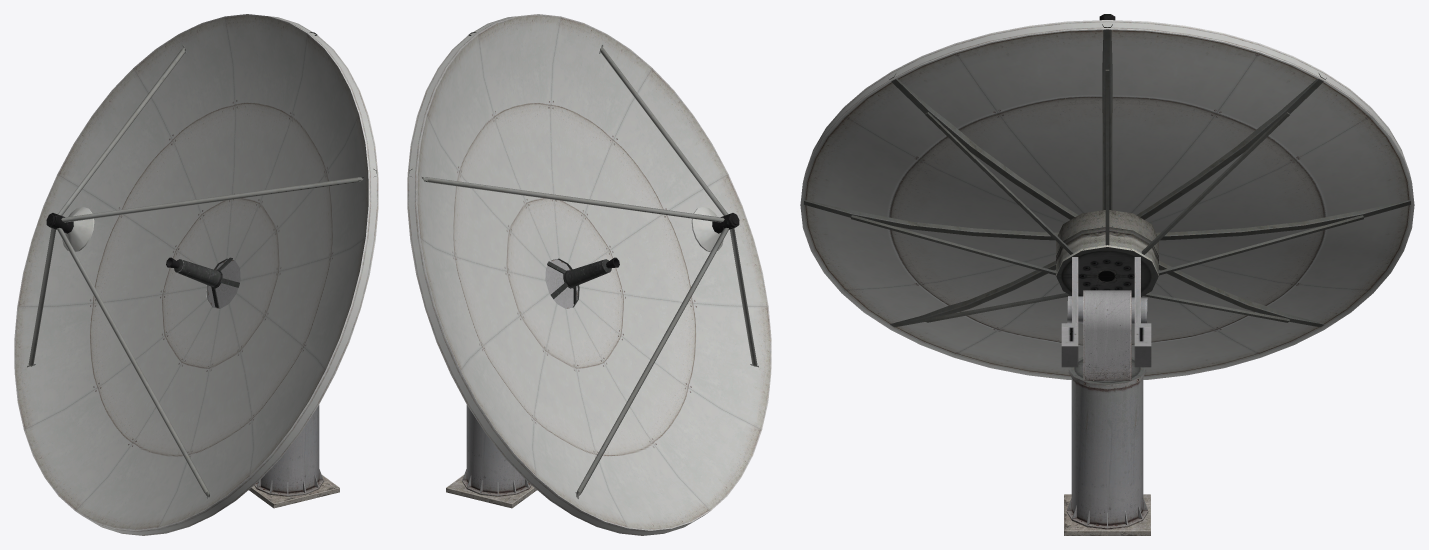
The model's file is satellite antenna.fbx.
3 views of the same model, side by side, from view 1: azimuth 30°, elevation 25°; view 2: azimuth 150°, elevation 25°; view 3: azimuth 270°, elevation 25° (orthographic). The views are drawn at different scales.
Visible parts, largest first — view 1: Satellite_Dish_Large_01; view 2: Satellite_Dish_Large_01; view 3: Satellite_Dish_Large_01.
Boxes of the visible parts, x1,y1,x2,y2 form: Satellite_Dish_Large_01: (14,14,378,535); Satellite_Dish_Large_01: (407,14,771,535); Satellite_Dish_Large_01: (800,14,1414,535).
Bounding box in the file's own units: 4070 × 6162 × 6745.
1 material, 1 textured.
